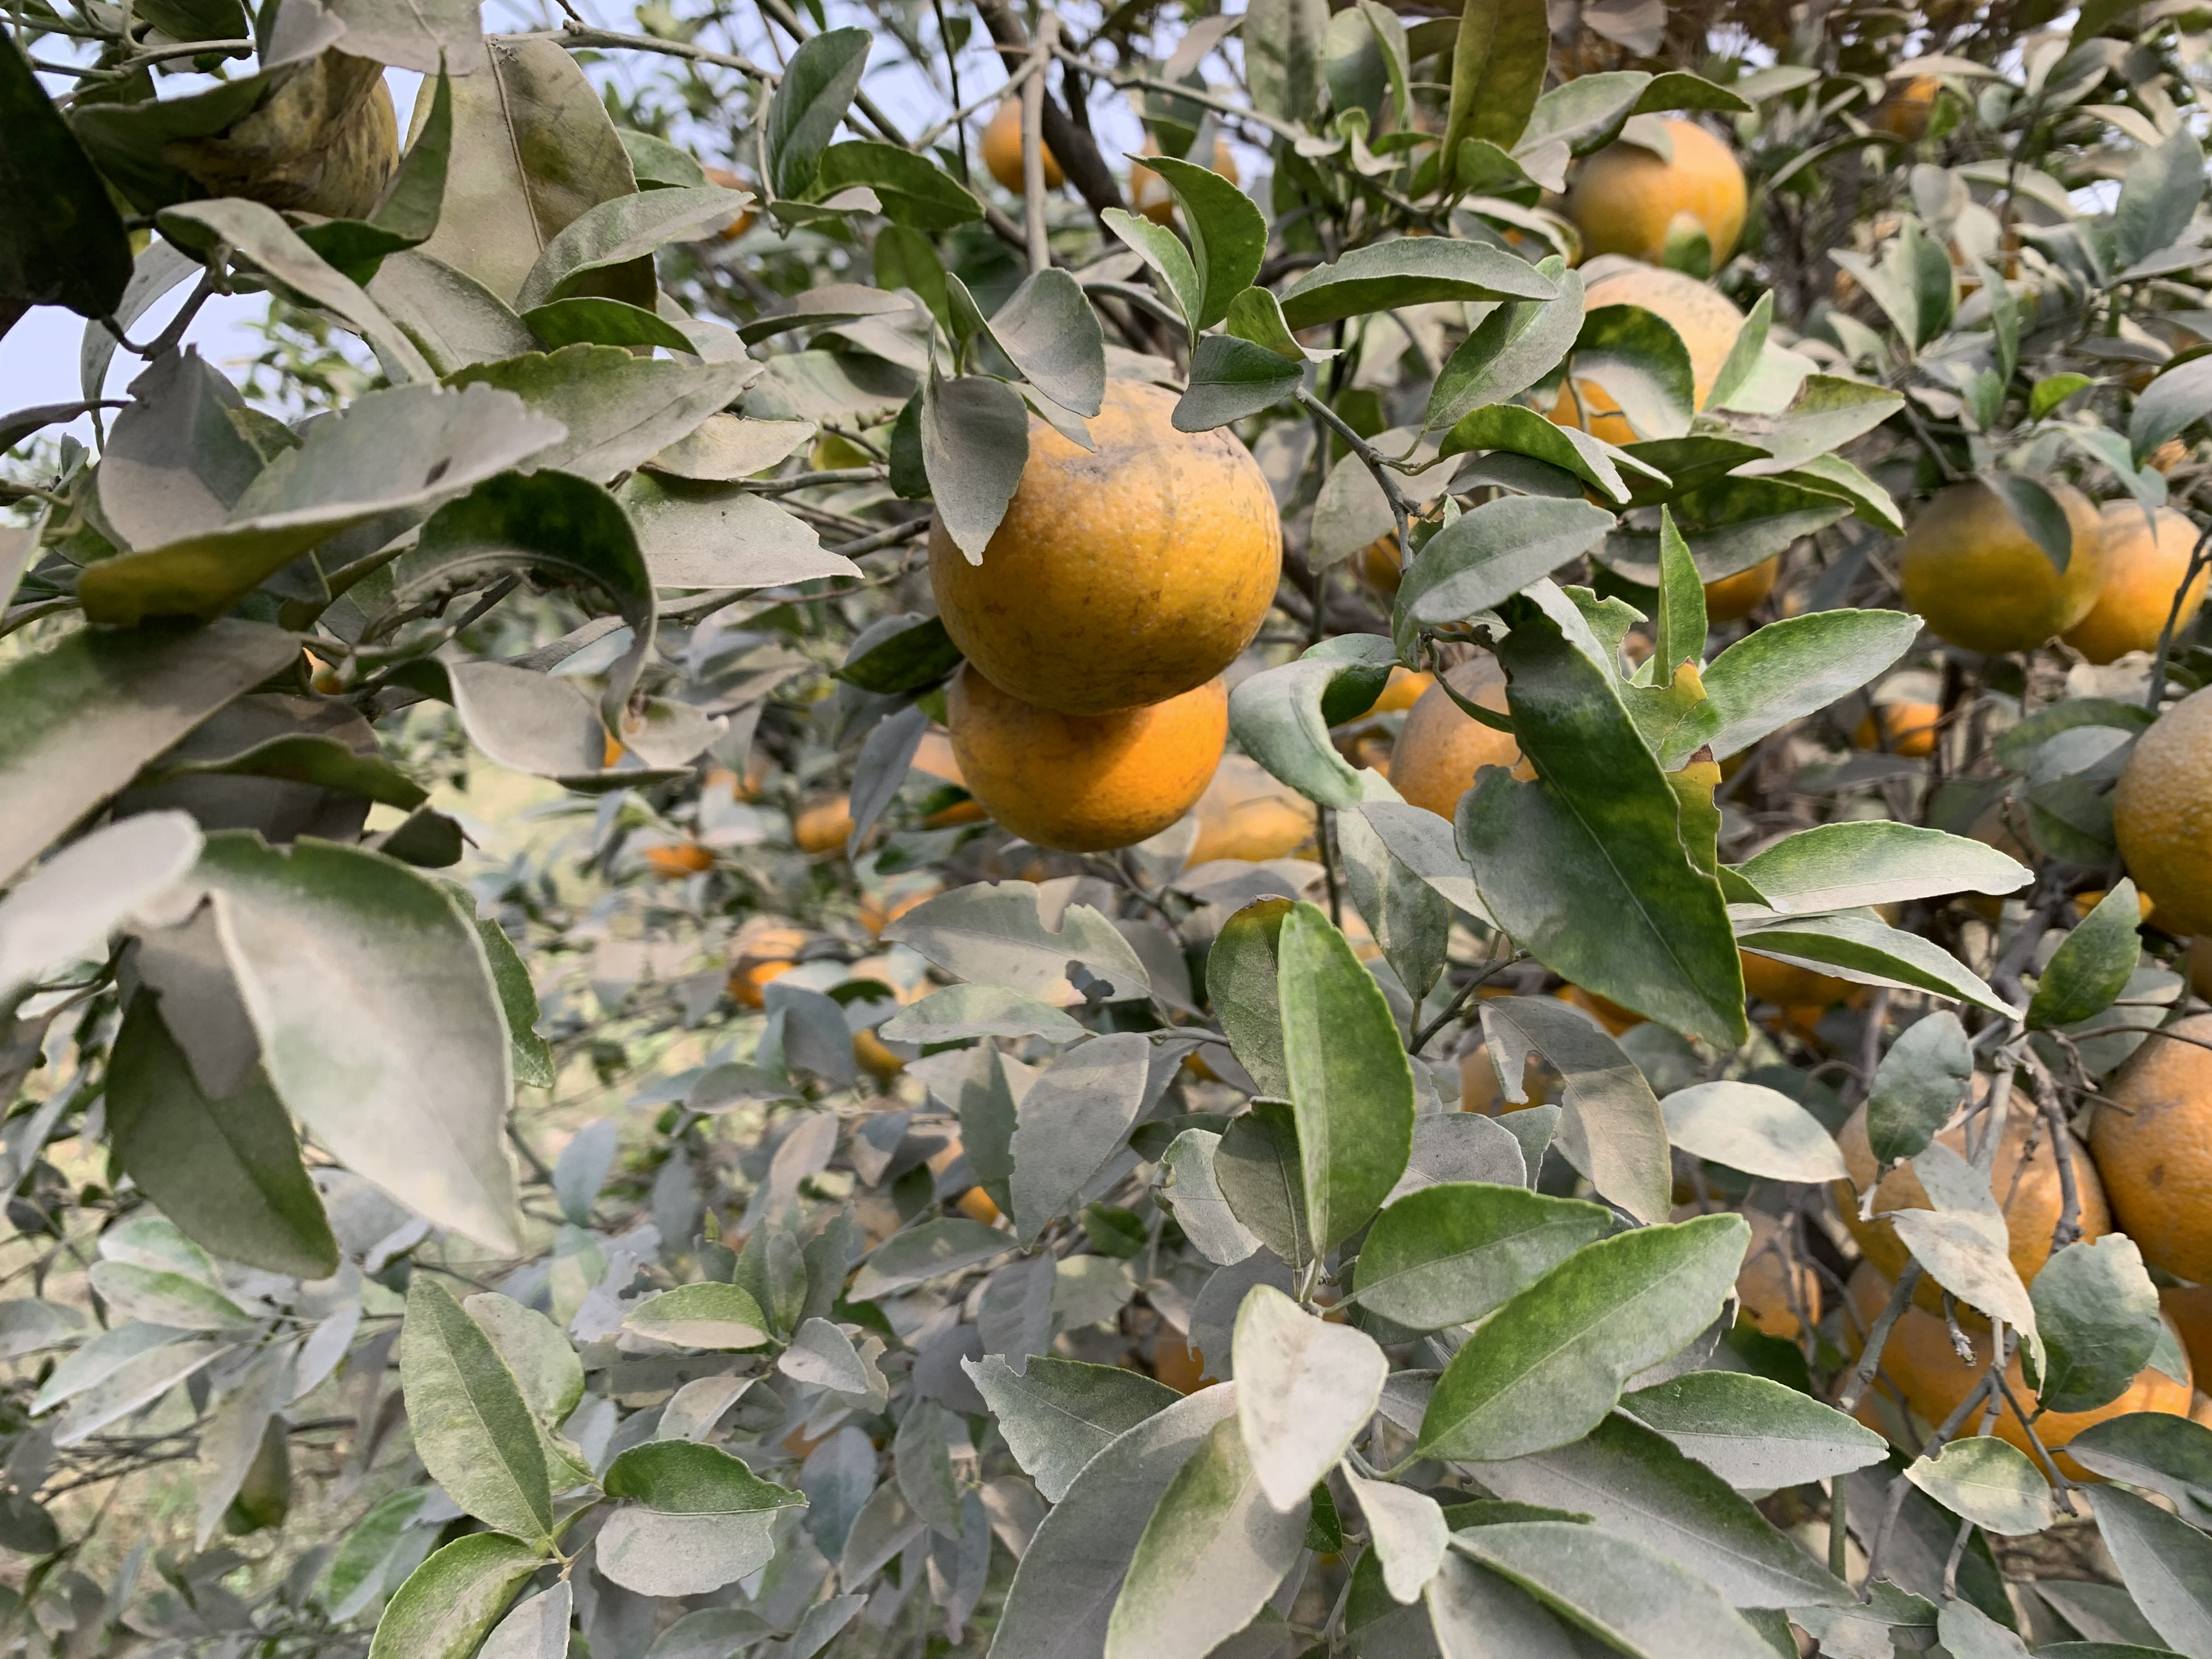orange: (928, 378, 1284, 714), (1832, 1073, 2113, 1323), (948, 655, 1228, 840), (1900, 477, 2107, 647), (1998, 1314, 2195, 1480), (1843, 1255, 2031, 1427), (2095, 1012, 2212, 1277), (1557, 263, 1731, 439), (2107, 687, 2212, 925), (1573, 117, 1737, 265), (1388, 648, 1534, 812), (2069, 498, 2198, 655), (1677, 1201, 1810, 1345), (1735, 889, 1900, 999), (1193, 755, 1322, 870), (843, 962, 939, 1072), (1130, 132, 1235, 225), (1350, 502, 1440, 592), (982, 99, 1066, 195), (1460, 1042, 1550, 1124), (907, 732, 988, 824), (1853, 694, 1951, 765), (728, 924, 805, 1009), (932, 1136, 1005, 1220), (1158, 1310, 1219, 1396), (789, 796, 869, 859), (1700, 552, 1777, 613), (1874, 77, 1932, 143), (643, 843, 712, 875)
